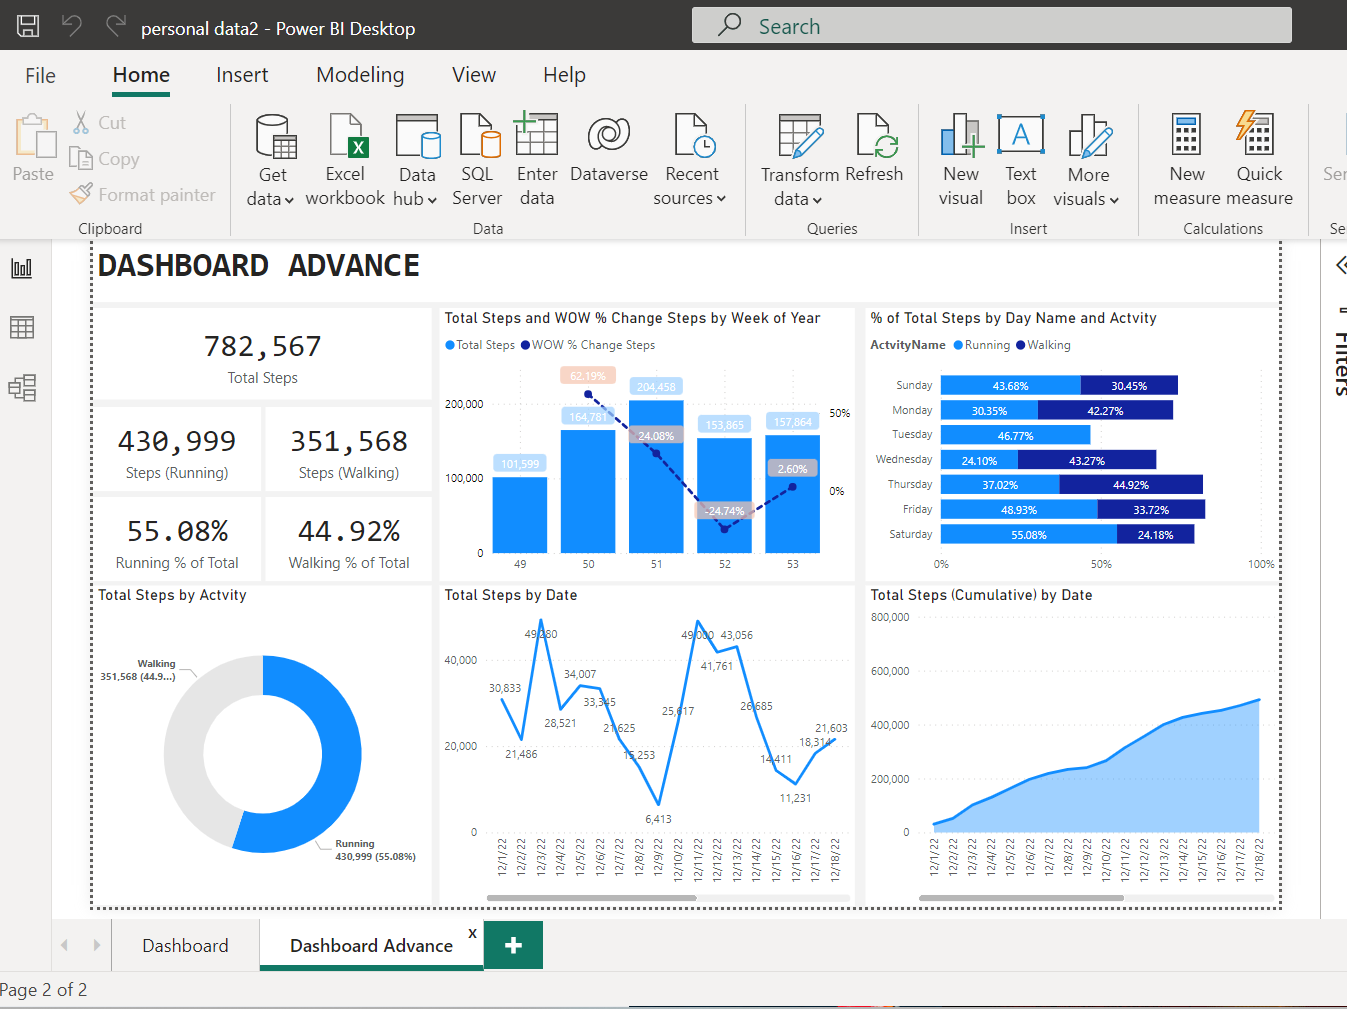

Layout of this report page (visuals, bound fields, positions):
{"tool":"powerbi","page":{"name":"Dashboard Advance","canvas":[1280,720],"ordinal":1},"visuals":[{"type":"textbox","box":[0,0,1279.8,68],"z":0},{"type":"card","fields":{"Values":["Basic Calculations.Total Steps"]},"box":[0,74.4,365.7,98.7],"z":1000},{"type":"card","fields":{"Values":["Advance Calculations.Steps(Running)"]},"box":[0,181.2,181.2,90.6],"z":2000},{"type":"card","fields":{"Values":["Advance Calculations.Steps(Walking)"]},"box":[186.1,181.2,179.6,90.6],"z":3000},{"type":"card","fields":{"Values":["Advance Calculations.Running % of Total"]},"box":[0,278.3,181.2,90.6],"z":4000},{"type":"card","fields":{"Values":["Advance Calculations.Walking % of Total"]},"box":[186.1,278.3,179.6,90.6],"z":5000},{"type":"donutChart","fields":{"Y":["Basic Calculations.Total Steps"],"Series":["DIM_Activity.ActvityName"]},"box":[0,373.8,365.7,344.6],"z":6000},{"type":"lineChart","fields":{"Category":["FACT_Activity.Date"],"Y":["Basic Calculations.Total Steps"]},"box":[373.8,373.8,448.2,346.2],"z":7000},{"type":"areaChart","fields":{"Category":["DIM_Date.Date"],"Y":["Advance Calculations.Total Steps (Cumulative)"]},"box":[833.3,373.8,446.6,346.2],"z":8000},{"type":"barChart","title":"% of Total Steps by Day Name and Actvity","fields":{"Category":["DIM_Date.Day Name","DIM_Date.Day of Week"],"Series":["DIM_Activity.ActvityName"],"Y":["Advance Calculations.Total Steps (Cumulative)"]},"box":[833.3,74.4,446.6,294.5],"z":9000},{"type":"lineStackedColumnComboChart","fields":{"Category":["DIM_Date.Week of Year"],"Y":["Basic Calculations.Total Steps"],"Y2":["Advance Calculations.Week Over Week % Change Steps"]},"box":[373.8,74.4,448.2,294.5],"z":10000}]}

Visuals, with their boxes on the page's 1280x720 design canvas (x1, y1, x2, y2). These are canvas units, not pixel positions in the 1347x1009 screenshot, which may show the page scaled, cropped or inside an application window:
textbox: 0, 0, 1280, 68
card - Basic Calculations.Total Steps: 0, 74, 366, 173
card - Advance Calculations.Steps(Running): 0, 181, 181, 272
card - Advance Calculations.Steps(Walking): 186, 181, 366, 272
card - Advance Calculations.Running % of Total: 0, 278, 181, 369
card - Advance Calculations.Walking % of Total: 186, 278, 366, 369
donutChart - Basic Calculations.Total Steps x DIM_Activity.ActvityName: 0, 374, 366, 718
lineChart - FACT_Activity.Date x Basic Calculations.Total Steps: 374, 374, 822, 720
areaChart - DIM_Date.Date x Advance Calculations.Total Steps (Cumulative): 833, 374, 1280, 720
"% of Total Steps by Day Name and Actvity" barChart: 833, 74, 1280, 369
lineStackedColumnComboChart - DIM_Date.Week of Year x Basic Calculations.Total Steps: 374, 74, 822, 369
